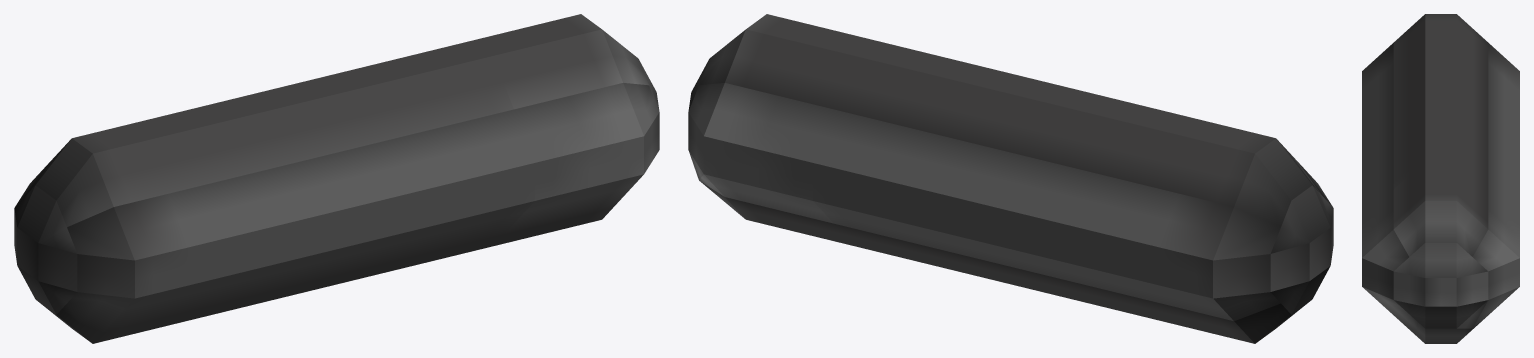
File: door_frame_top_full.obj
The picture shows the model from 3 angles, left to right: view 1: azimuth 30°, elevation 25°; view 2: azimuth 150°, elevation 25°; view 3: azimuth 270°, elevation 25°; orthographic projection. The views are drawn at different scales.
Parts seen in each view (by area): view 1: Default; view 2: Default; view 3: Default.
Part boxes in pixels (<box>): Default: <box>14,14,659,343</box>; Default: <box>688,14,1333,343</box>; Default: <box>1362,14,1519,343</box>.
Bounding box in the file's own units: 2.12 × 0.625 × 0.625.
